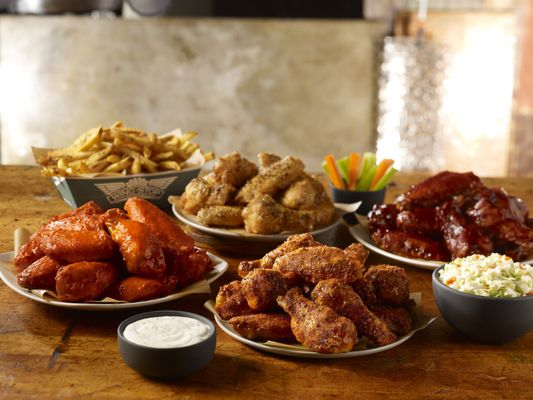sushi: (32, 120, 204, 212), (431, 253, 533, 345), (116, 309, 217, 380)
